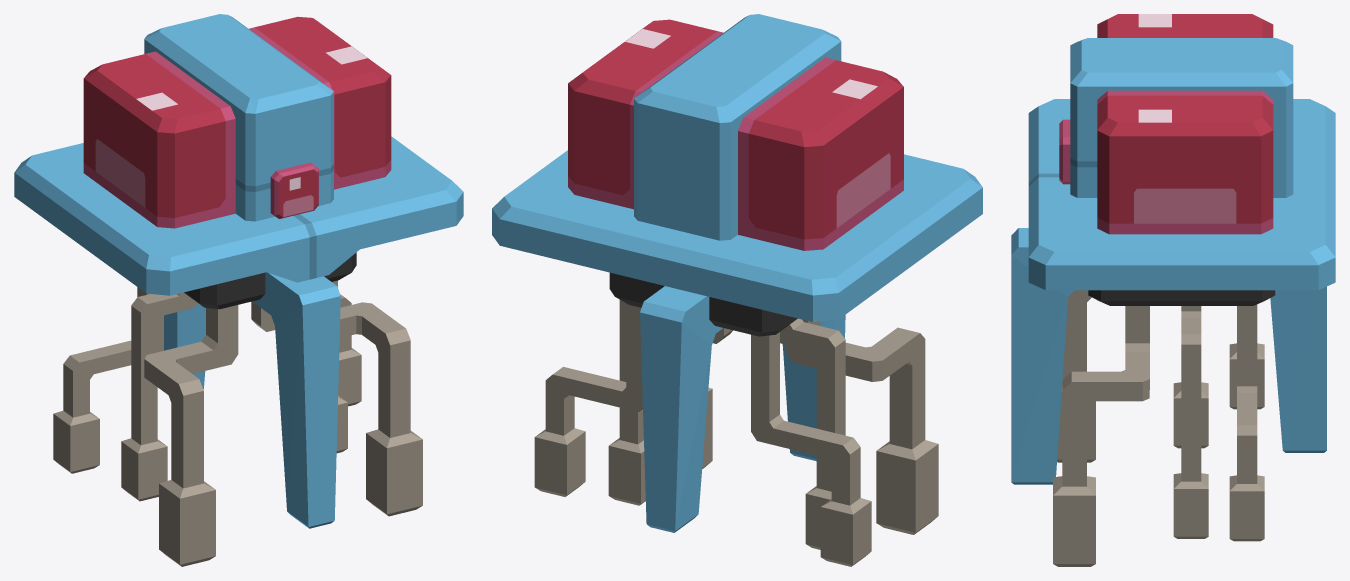
The picture shows the model from 3 angles, left to right: view 1: azimuth 30°, elevation 25°; view 2: azimuth 150°, elevation 25°; view 3: azimuth 270°, elevation 25°; orthographic projection. The views are drawn at different scales.
Visible parts, largest first — view 1: 0073_tentacruel; view 2: 0073_tentacruel; view 3: 0073_tentacruel.
Boxes of the visible parts, left/top/right/bottom form: 0073_tentacruel: left=14, top=14, right=463, bottom=566; 0073_tentacruel: left=492, top=14, right=982, bottom=566; 0073_tentacruel: left=1011, top=14, right=1335, bottom=566.
Bounding box in the file's own units: 2.21 × 2.92 × 1.89.
1 material, 1 textured.
